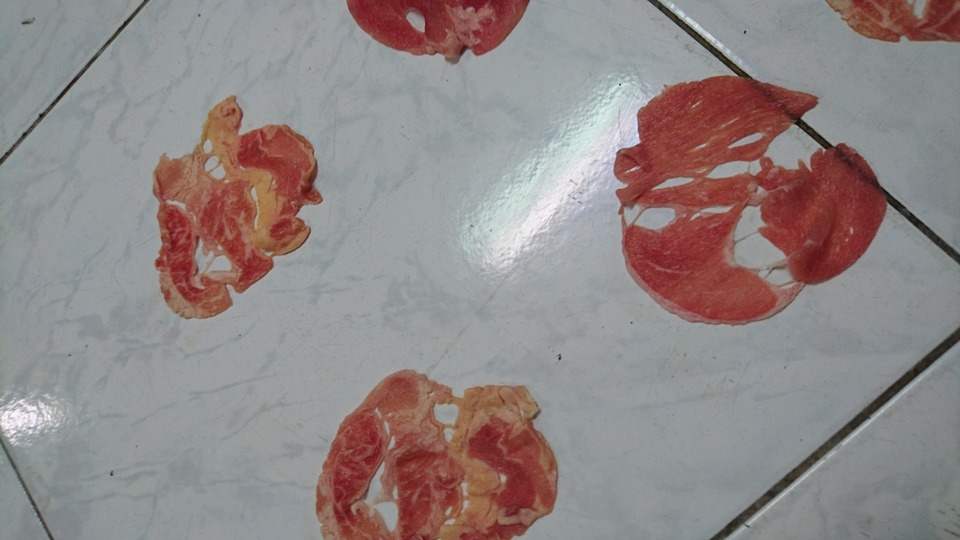restructured meat: (582, 76, 882, 328), (303, 358, 566, 540), (146, 94, 319, 322), (337, 2, 540, 65)
